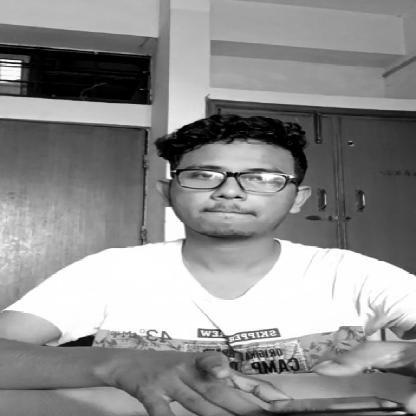Normal: (139, 117, 308, 247)
